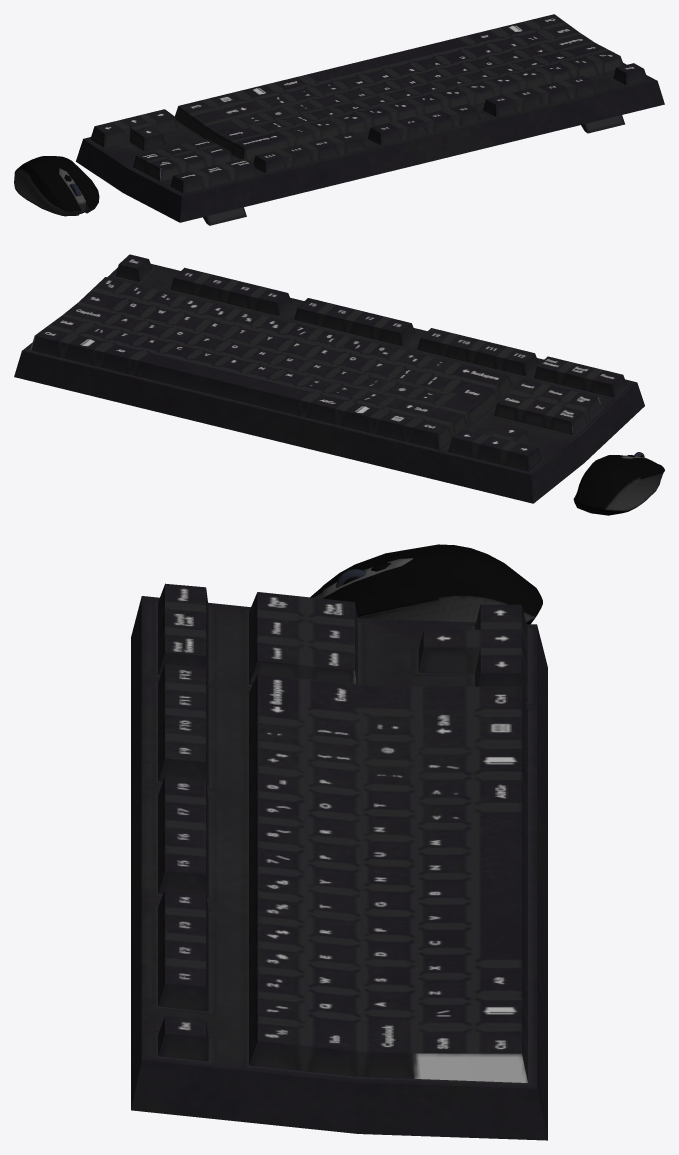
The model's file is Keyboard.fbx.
3 renders of one model, top to bottom at view 1: azimuth 30°, elevation 25°; view 2: azimuth 150°, elevation 25°; view 3: azimuth 270°, elevation 25°, orthographic. The views are drawn at different scales.
Visible parts, largest first — view 1: Object_2; view 2: Object_2; view 3: Object_2.
Boxes of the visible parts, left/top/right/bottom form: Object_2: left=14, top=14, right=664, bottom=225; Object_2: left=14, top=254, right=664, bottom=515; Object_2: left=131, top=544, right=547, bottom=1140.
Bounding box in the file's own units: 46.3 × 3.75 × 14.88.
Materials: 1 (1 with a texture image).
